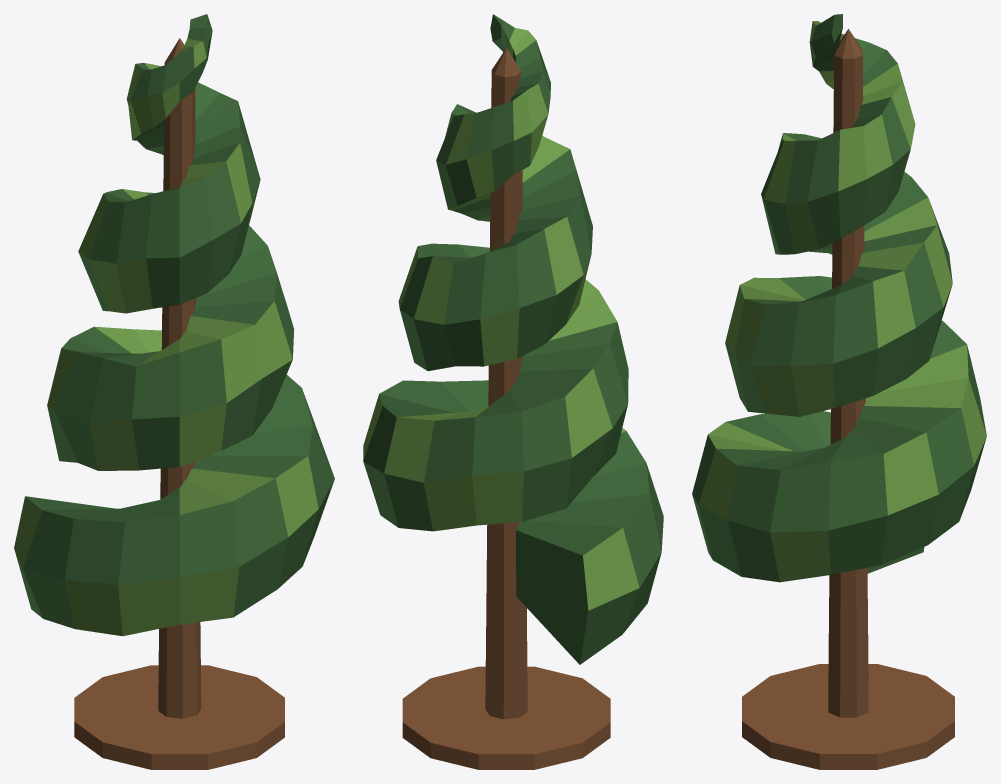
Rendered from FMS_Garden_Topiary_Spiral.fbx.
The picture shows the model from 3 angles, left to right: view 1: azimuth 30°, elevation 25°; view 2: azimuth 150°, elevation 25°; view 3: azimuth 270°, elevation 25°; orthographic projection. The views are drawn at different scales.
Parts seen in each view (by area): view 1: FMS_Garden_Topiary_Spiral_Body; view 2: FMS_Garden_Topiary_Spiral_Body; view 3: FMS_Garden_Topiary_Spiral_Body.
Part boxes in pixels (bbox=[...]): FMS_Garden_Topiary_Spiral_Body: bbox=[14, 14, 334, 769]; FMS_Garden_Topiary_Spiral_Body: bbox=[363, 14, 663, 769]; FMS_Garden_Topiary_Spiral_Body: bbox=[692, 14, 986, 769].
Size of the model in its own units: 0.7355 by 1.8 by 0.6679.
